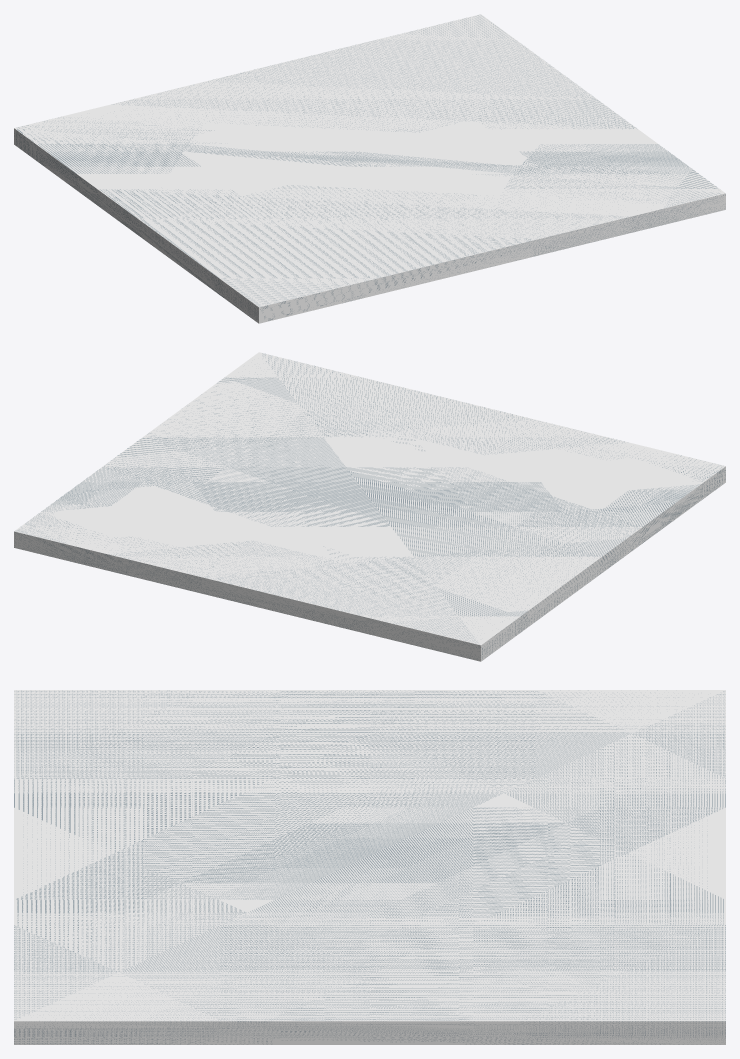
Rendered from patio.fbx.
3 renders of one model, top to bottom at view 1: azimuth 30°, elevation 25°; view 2: azimuth 150°, elevation 25°; view 3: azimuth 270°, elevation 25°, orthographic. The views are drawn at different scales.
Visible parts, largest first — view 1: Model; view 2: Model; view 3: Model.
Part boxes in pixels (bbox=[...]): Model: bbox=[14, 14, 725, 323]; Model: bbox=[14, 352, 725, 661]; Model: bbox=[14, 690, 725, 1044].
Size of the model in its own units: 5.68 by 0.19 by 5.16.
